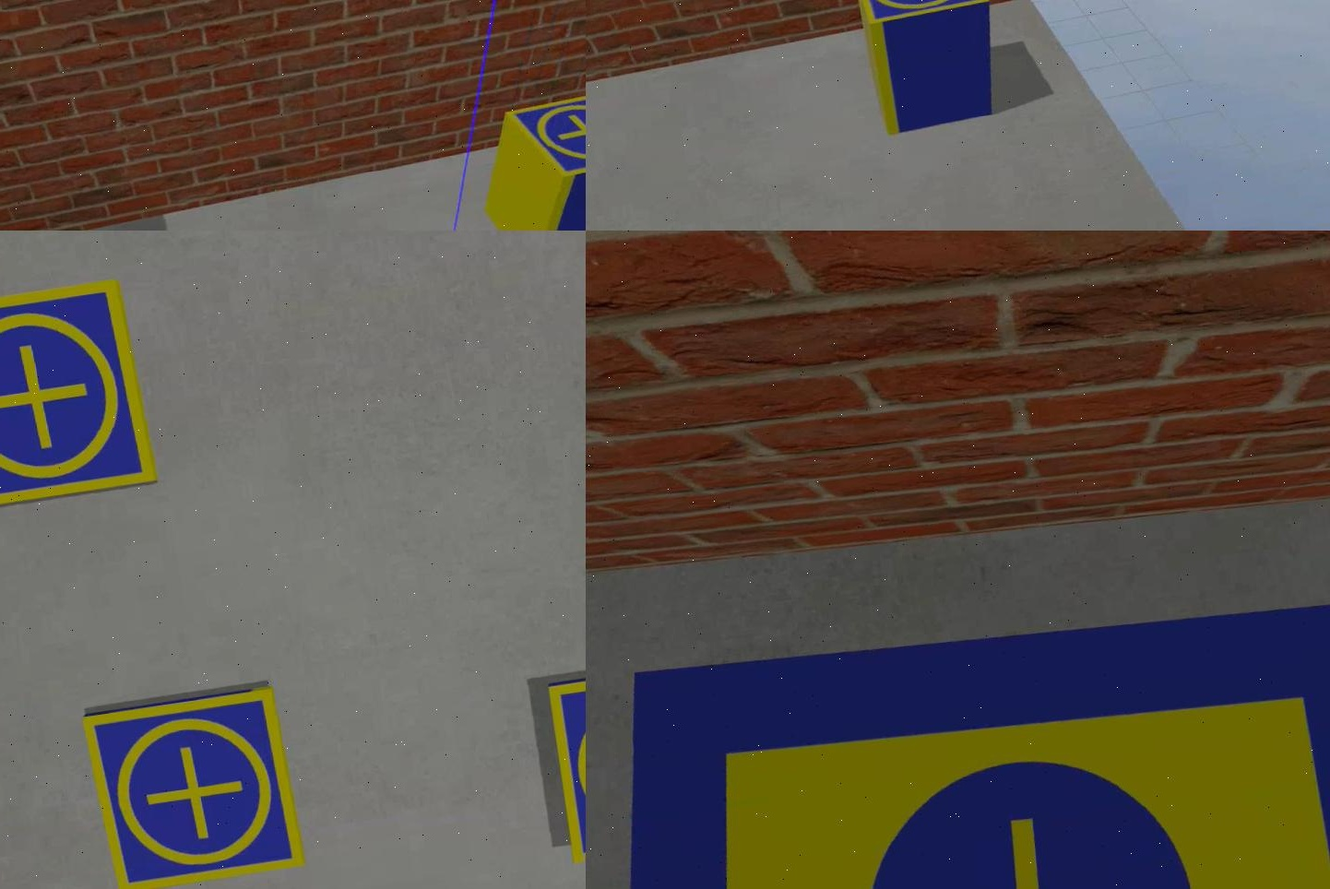large_base: (584, 564, 1328, 889)
small_base: (79, 684, 303, 889), (0, 273, 159, 520), (502, 82, 584, 181), (848, 1, 991, 35)
